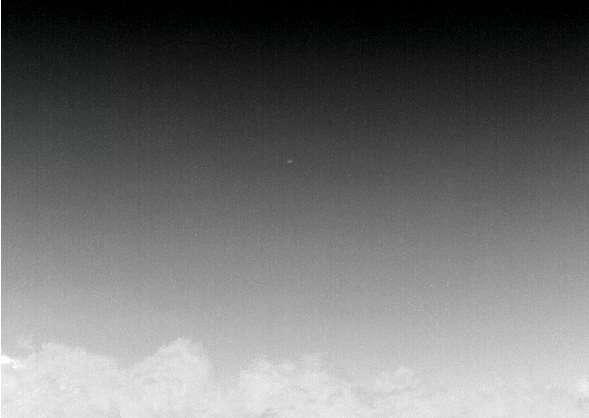dim target: (286, 158, 293, 164)
